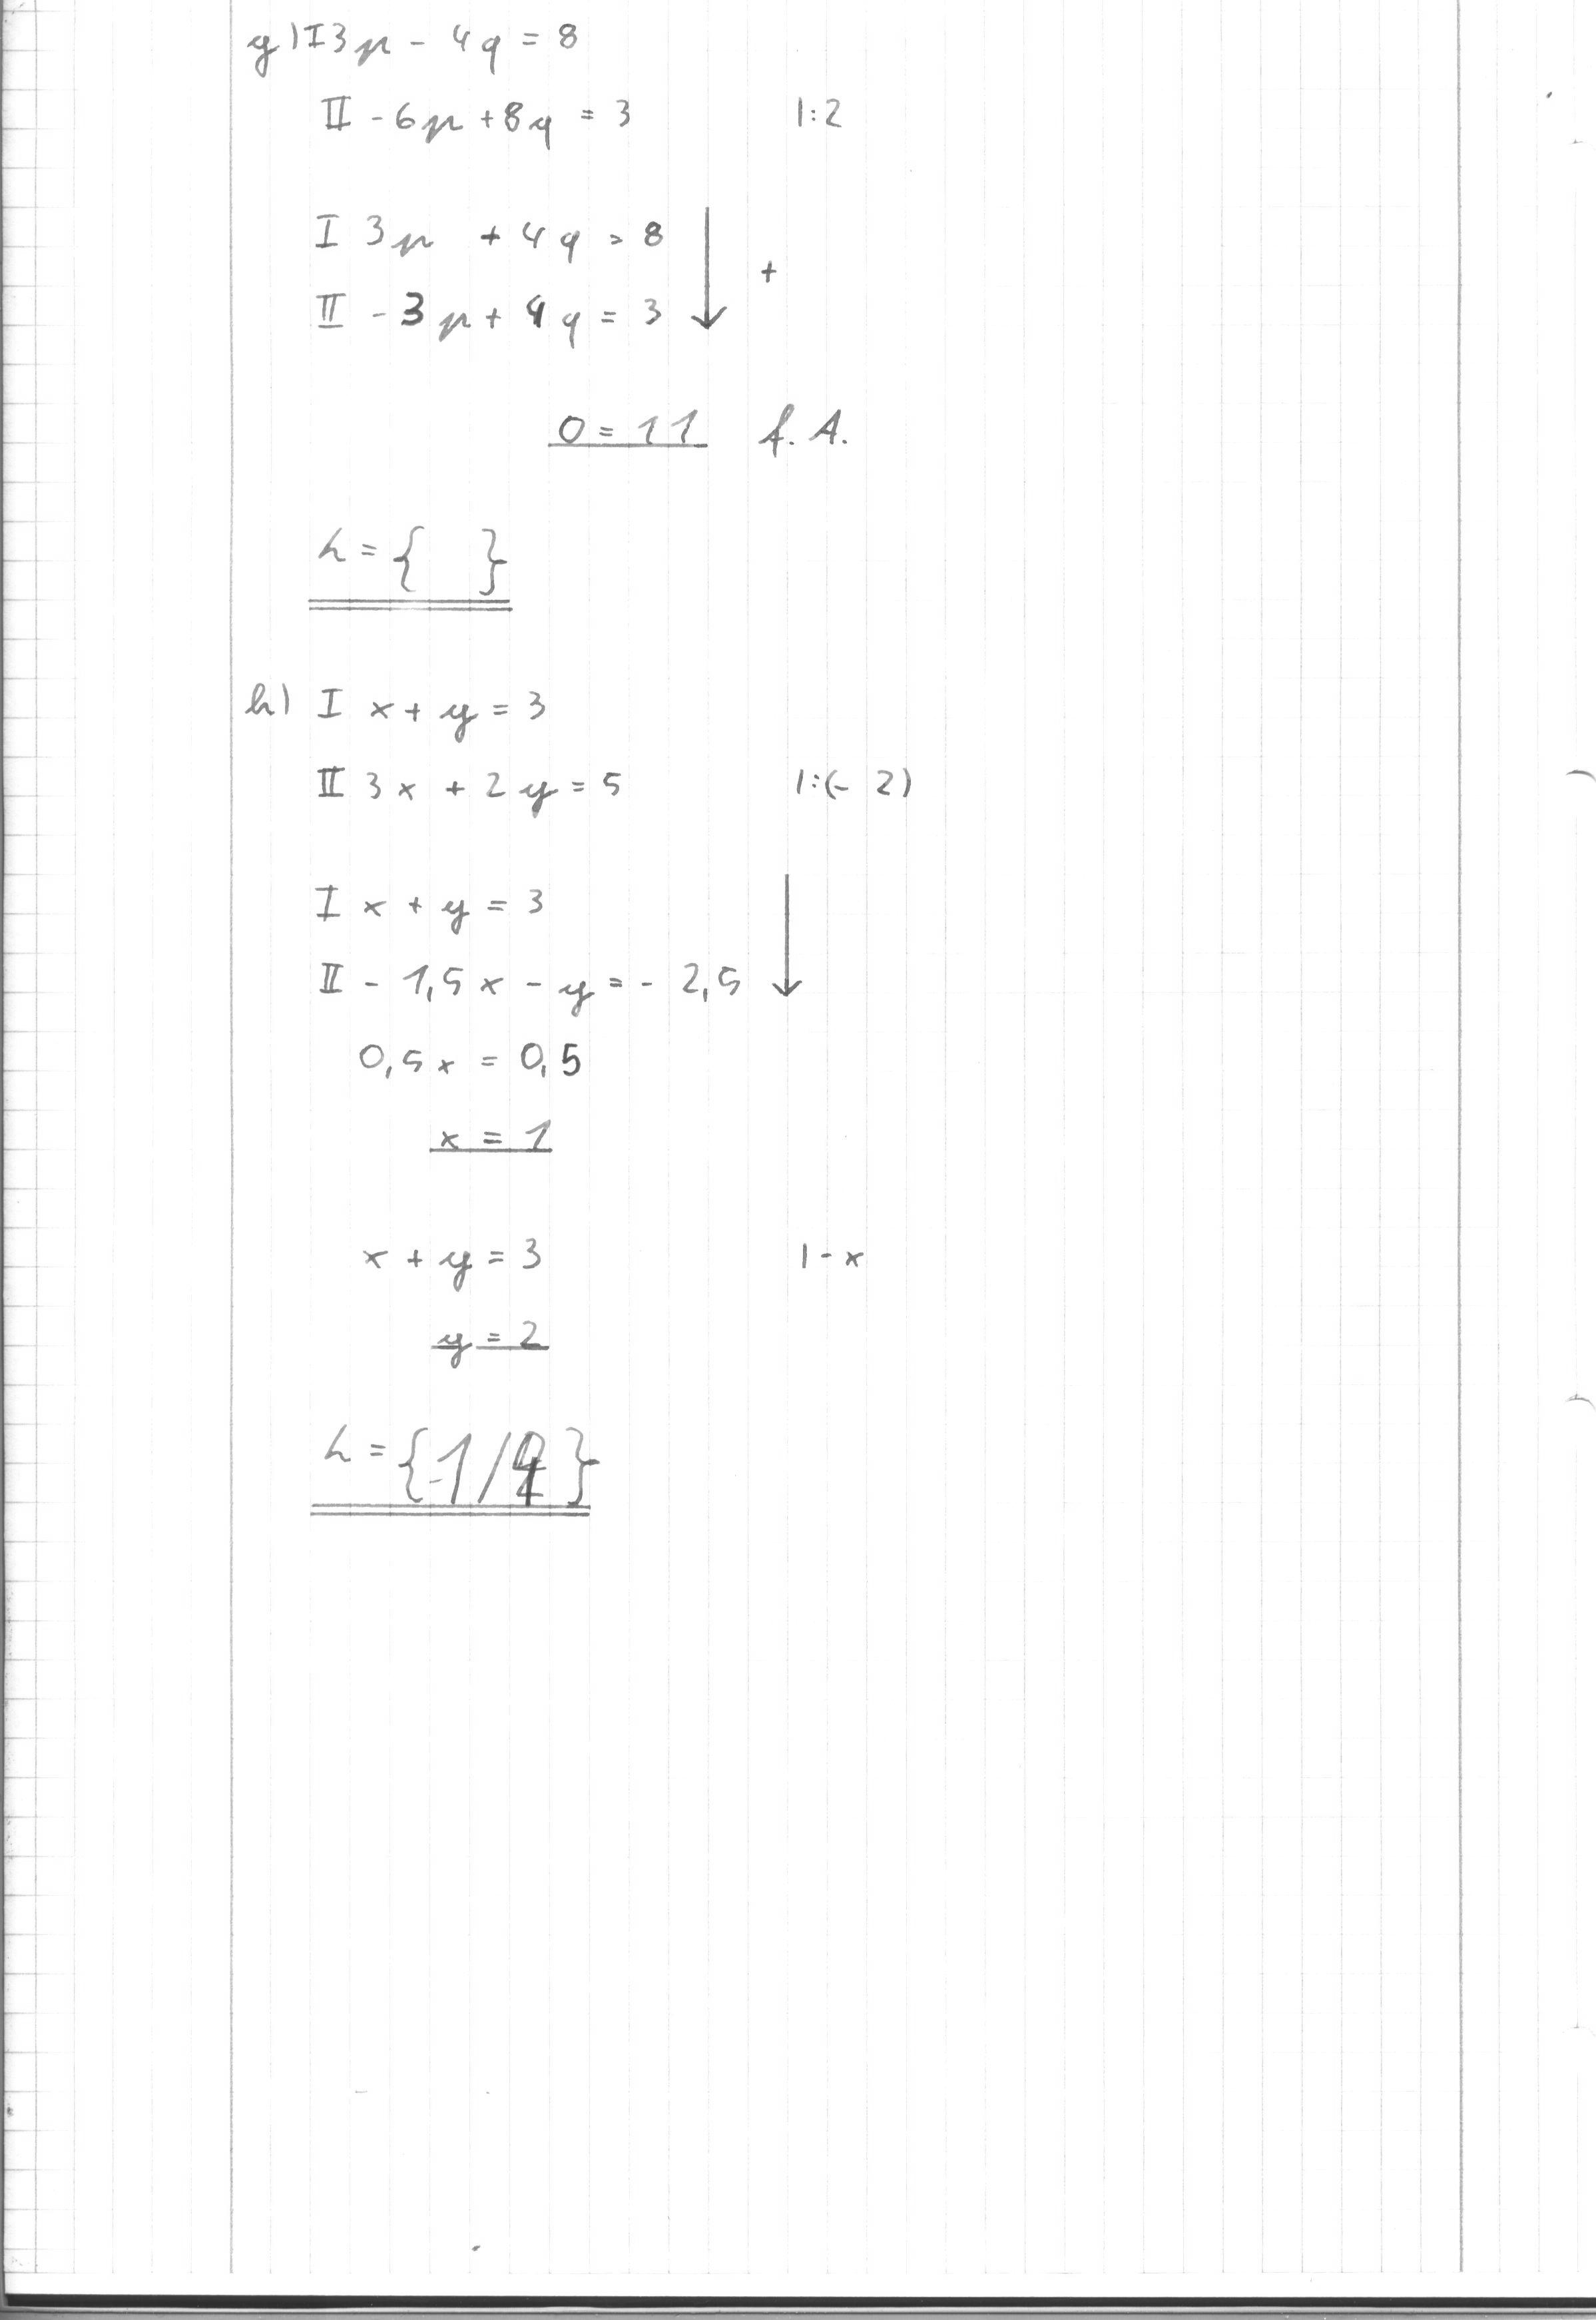word: (288, 858, 827, 1180), (294, 188, 862, 470), (222, 663, 920, 836), (291, 1215, 619, 1536), (226, 2, 860, 153), (284, 487, 563, 627), (767, 1217, 886, 1279)
